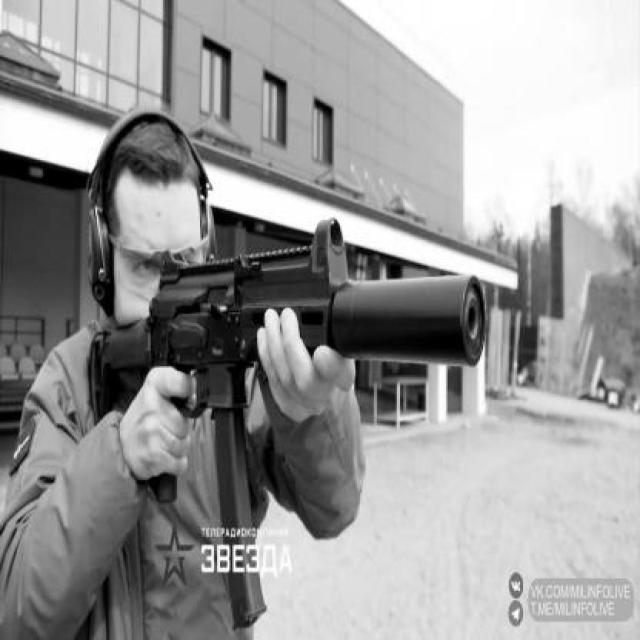weapon: (84, 217, 490, 632)
